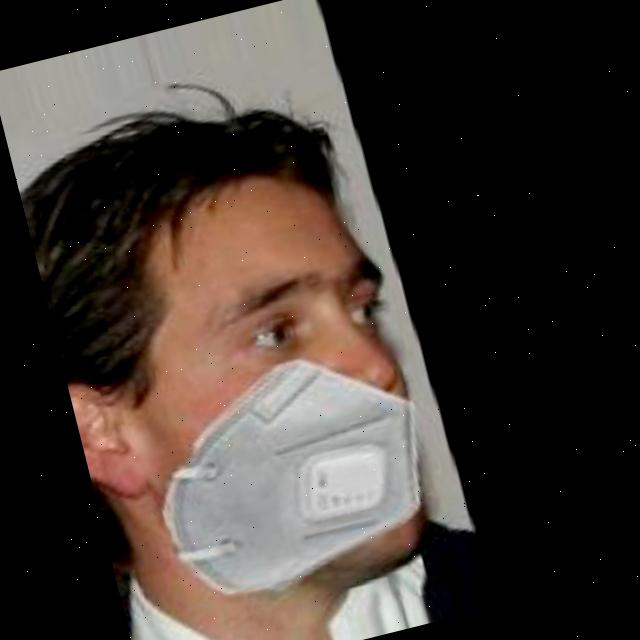suspicion: (32, 94, 452, 620)
